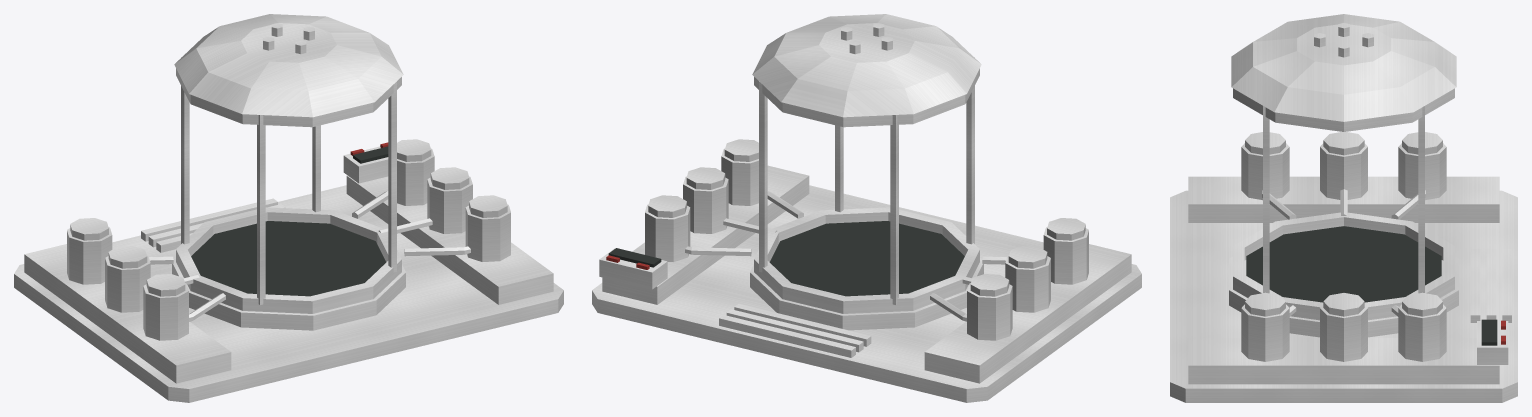
The model's file is large_mech_gestator.obj.
3 renders of one model, left to right at view 1: azimuth 30°, elevation 25°; view 2: azimuth 150°, elevation 25°; view 3: azimuth 270°, elevation 25°, orthographic. The views are drawn at different scales.
Visible parts, largest first — view 1: large_mech_gestator; view 2: large_mech_gestator; view 3: large_mech_gestator.
Boxes of the visible parts, left/top/right/bottom form: large_mech_gestator: left=14, top=14, right=563, bottom=402; large_mech_gestator: left=592, top=14, right=1141, bottom=402; large_mech_gestator: left=1170, top=14, right=1517, bottom=402.
Bounding box in the file's own units: 3.88 × 2.45 × 2.88.
